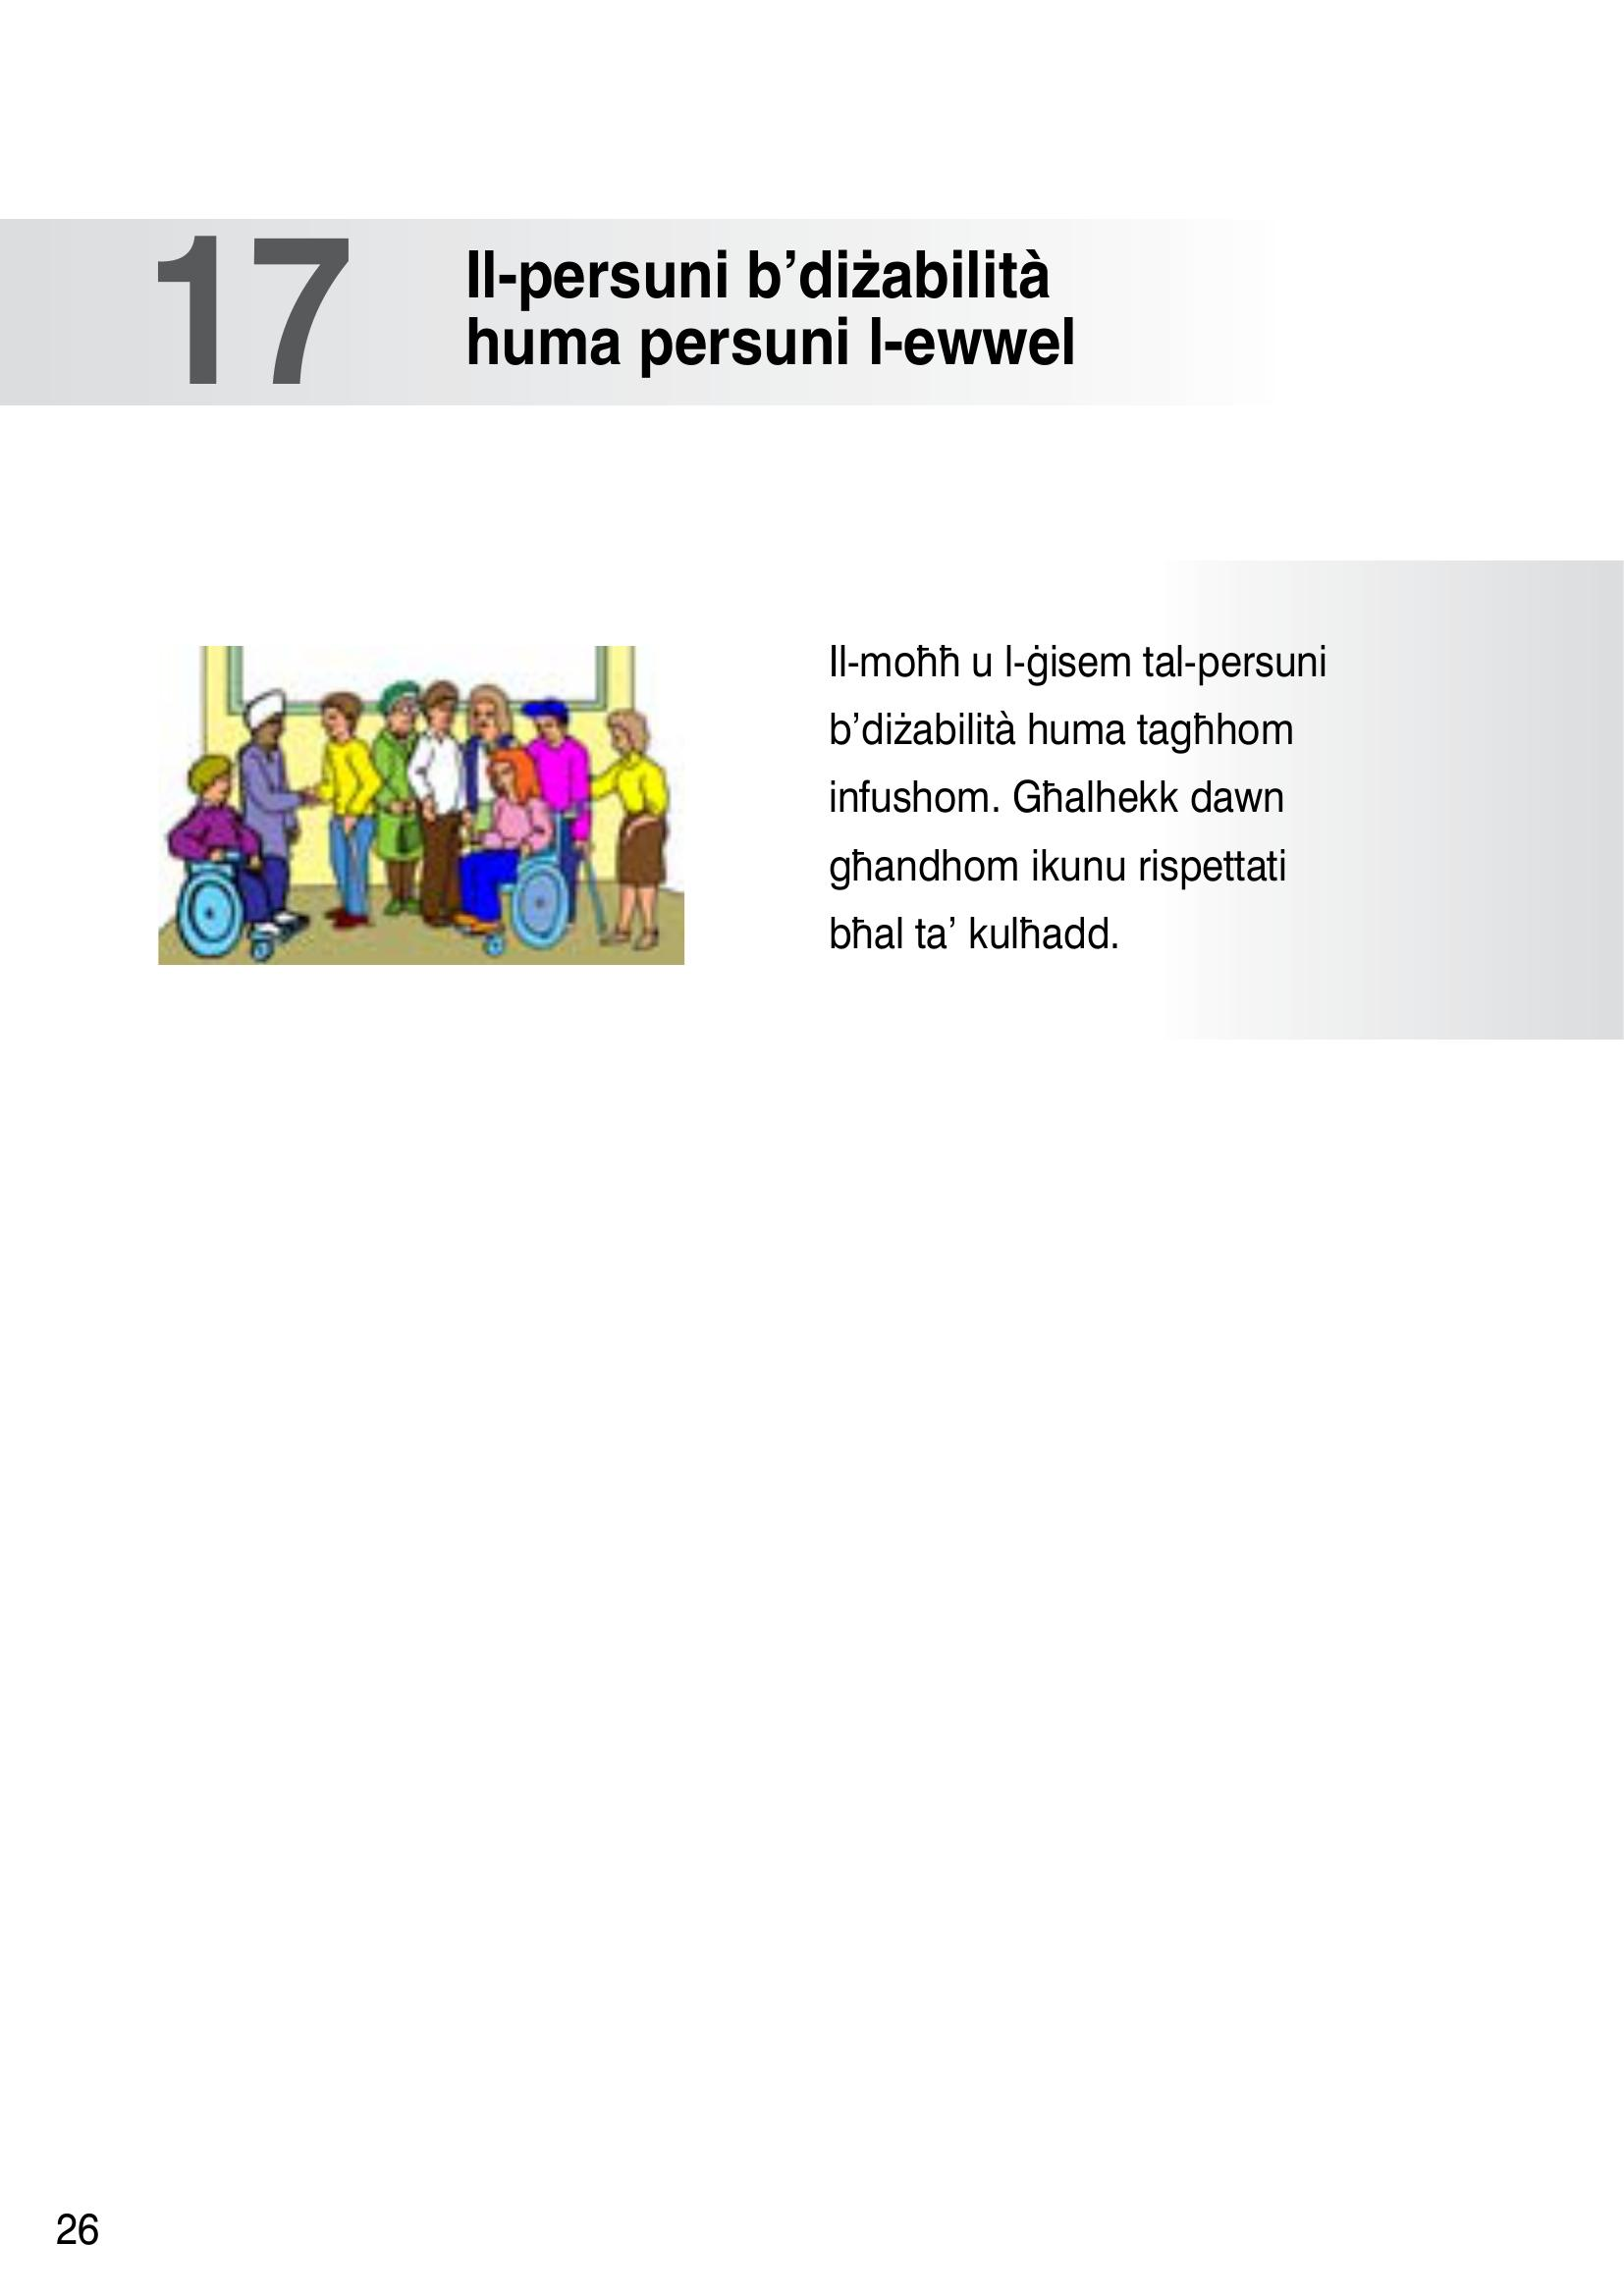text: (791, 615, 1343, 978), (141, 223, 1106, 397)
